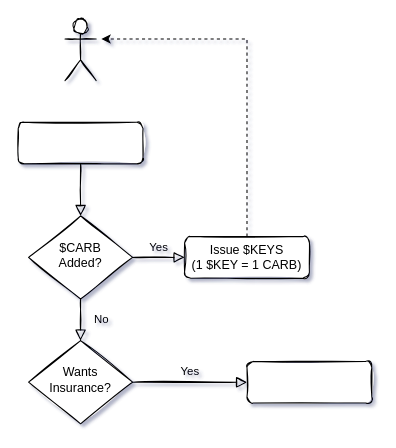
Image size: 396x448. Some labels were removed from this diagram. The centre of each missing label's shape, as x and y in pixels:
Adds Liquidity To CarbSwap: the point at 80,142
LPer: the point at 80,49
